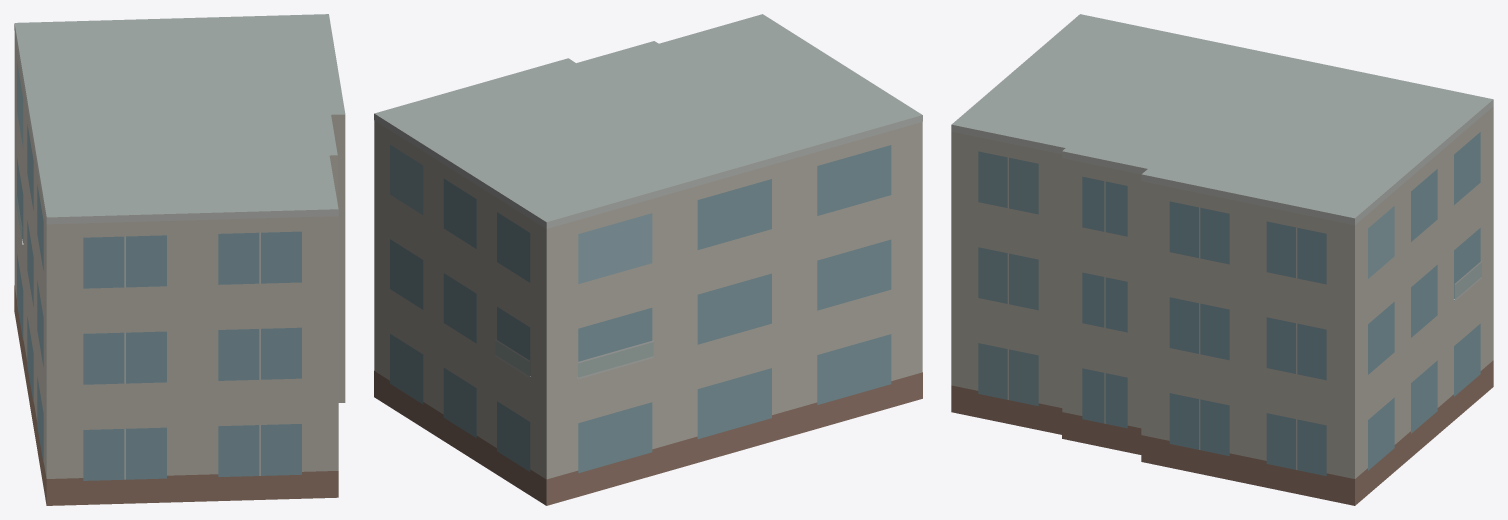
File: survey-upis-32811157.glb
3 renders of one model, left to right at view 1: azimuth 30°, elevation 25°; view 2: azimuth 150°, elevation 25°; view 3: azimuth 270°, elevation 25°, orthographic.
Parts seen in each view (by area): view 1: survey-upis-32811157.tmp; view 2: survey-upis-32811157.tmp; view 3: survey-upis-32811157.tmp.
Boxes of the visible parts, x1,y1,x2,y2 form: survey-upis-32811157.tmp: (14, 14, 345, 505); survey-upis-32811157.tmp: (374, 14, 922, 505); survey-upis-32811157.tmp: (951, 14, 1493, 505).
Bounding box in the file's own units: 15.56 × 10.2 × 17.44.
